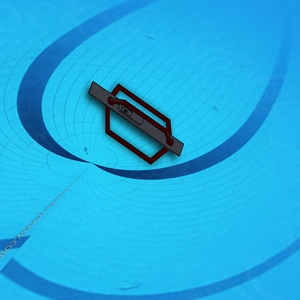submarine: (88, 82, 183, 166)
